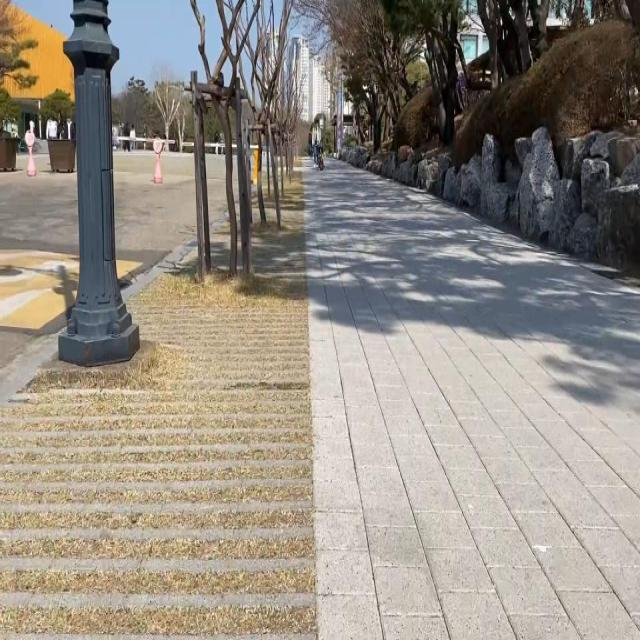sidewalk: (304, 158, 640, 638)
